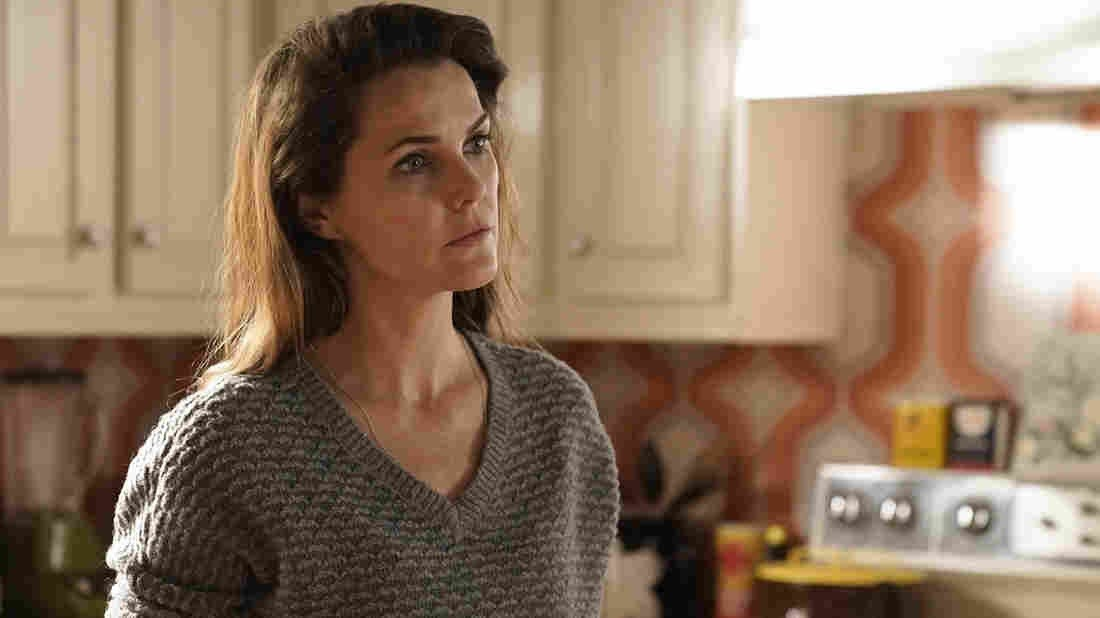face_no_mask: (260, 7, 503, 288)
